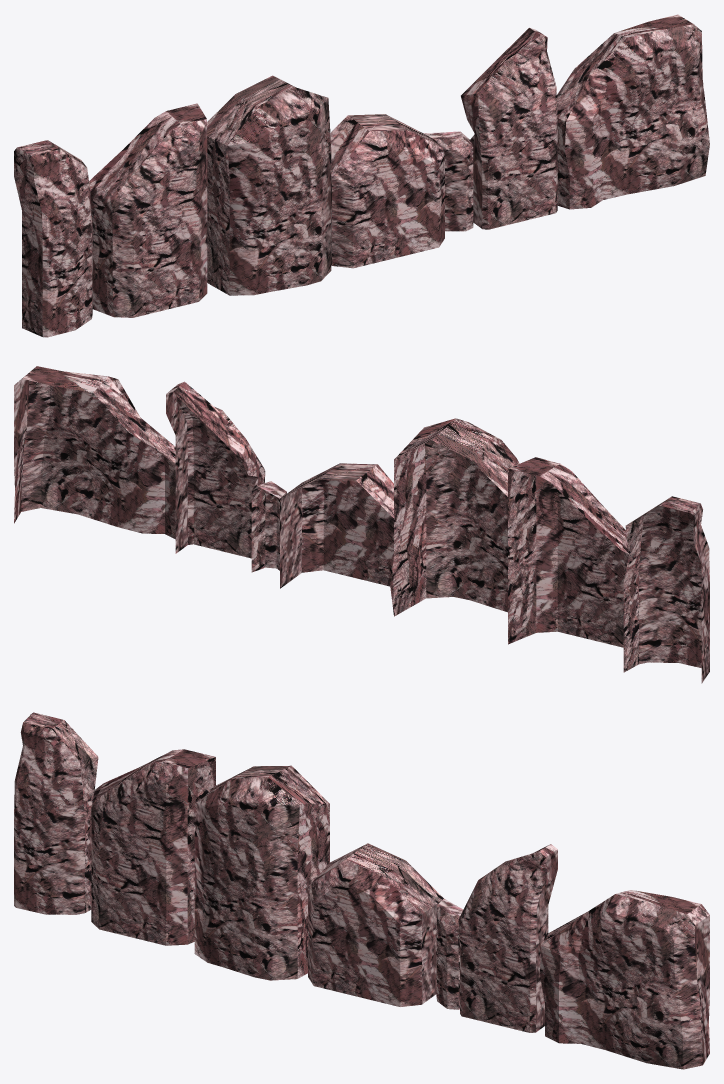
Rendered from cliff_wall.fbx.
3 renders of one model, top to bottom at view 1: azimuth 30°, elevation 25°; view 2: azimuth 150°, elevation 25°; view 3: azimuth 330°, elevation 25°, orthographic.
Parts seen in each view (by area): view 1: pPlane2; view 2: pPlane2; view 3: pPlane2.
Boxes of the visible parts, bbox=[...] form: pPlane2: bbox=[14, 14, 709, 337]; pPlane2: bbox=[14, 366, 709, 683]; pPlane2: bbox=[14, 712, 709, 1069].
Bounding box in the file's own units: 5350 × 1422 × 546.
